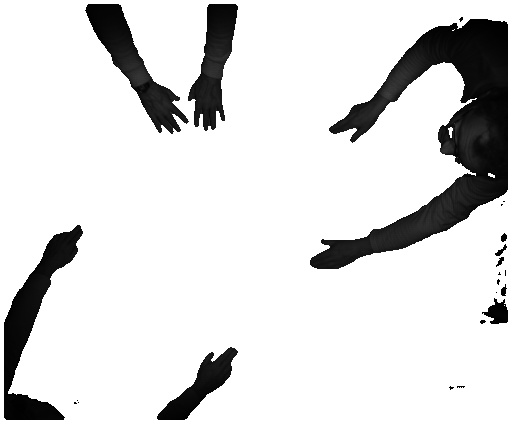hand: (140, 87, 190, 135), (189, 84, 231, 135), (197, 344, 239, 394), (328, 102, 378, 143), (45, 224, 87, 272), (304, 240, 359, 271)
